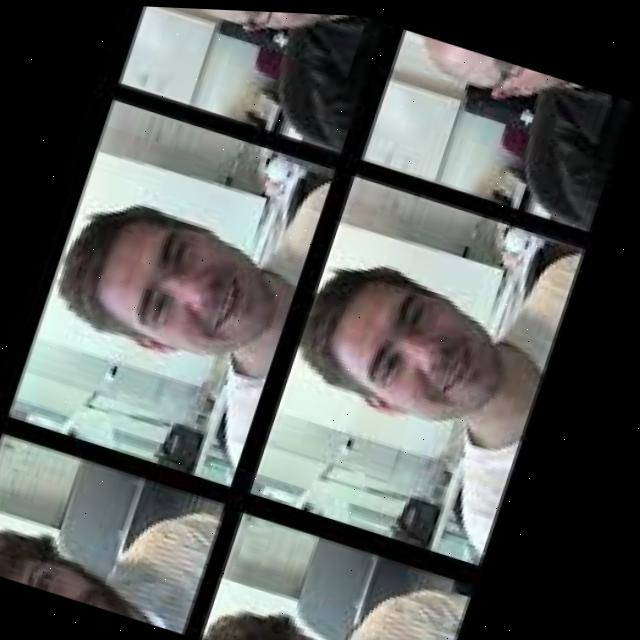happy: (43, 143, 329, 411)
